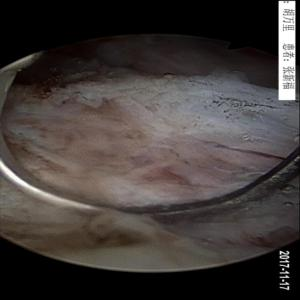film: (180, 127, 293, 166)
